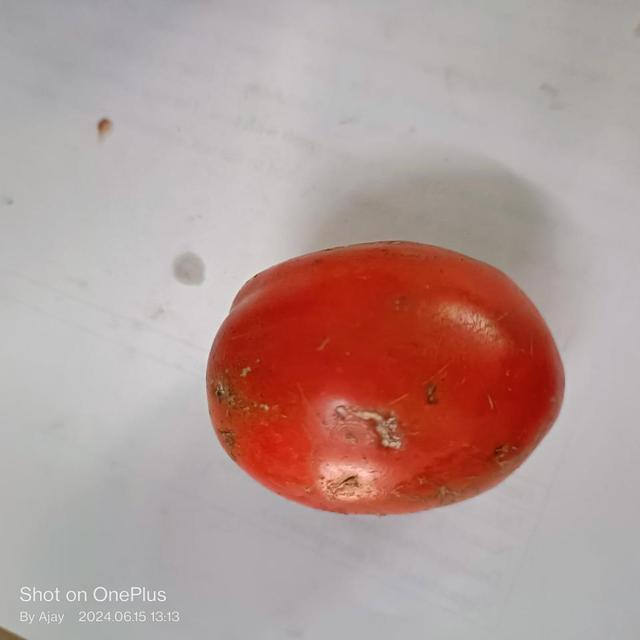Bacterial Spot Fruit: (12, 18, 333, 299)
